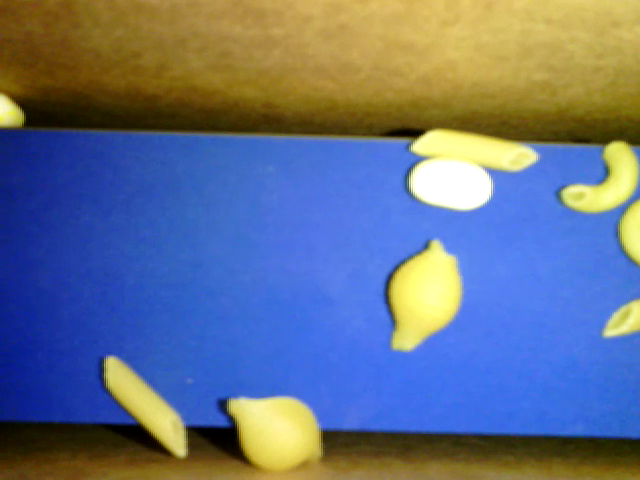elbow: (560, 141, 638, 214)
penne: (103, 355, 188, 458), (408, 128, 541, 173), (601, 297, 639, 337)
shell: (386, 237, 463, 352), (227, 396, 322, 467)
